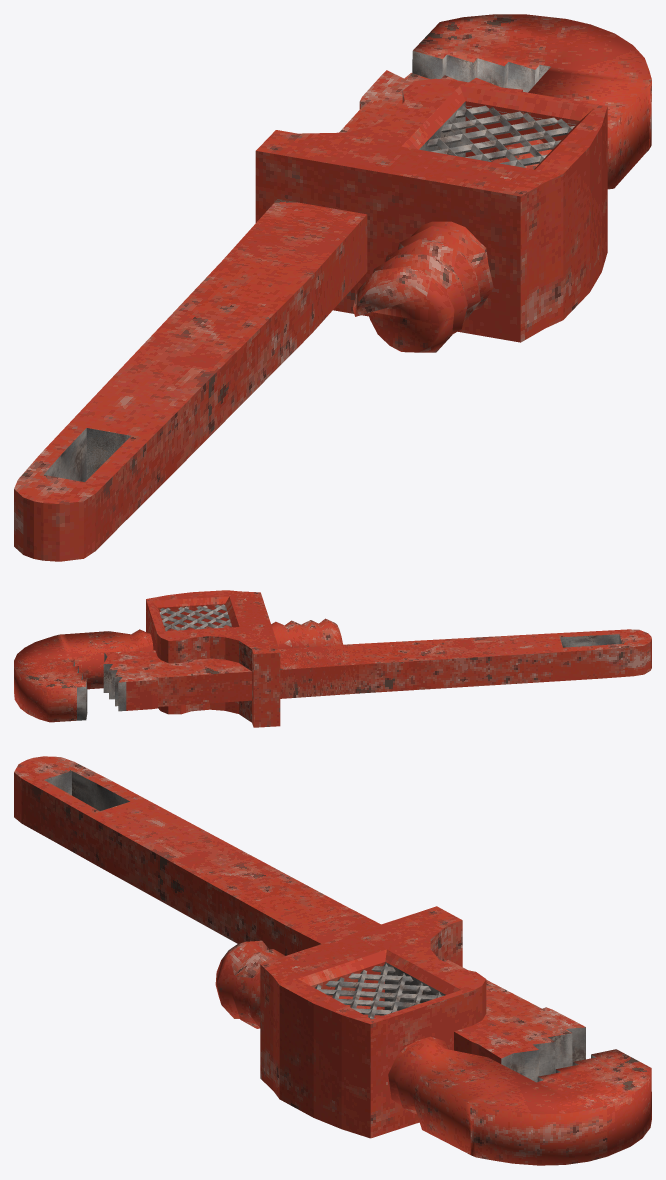
Rendered from Wrench.glb.
3 views of the same model, one above another, from view 1: azimuth 30°, elevation 25°; view 2: azimuth 150°, elevation 25°; view 3: azimuth 270°, elevation 25° (orthographic). The views are drawn at different scales.
Visible parts, largest first — view 1: Plane.003, Circle.002, Plane.007; view 2: Plane.003, Circle.002, Plane.007; view 3: Plane.003, Circle.002, Plane.007.
Boxes of the visible parts, box(x1,y1,x2,y2) form: Plane.003: box(14, 70, 607, 561); Circle.002: box(353, 14, 651, 352); Plane.007: box(420, 105, 575, 169); Plane.003: box(103, 590, 651, 727); Circle.002: box(14, 618, 342, 722); Plane.007: box(159, 604, 231, 631); Plane.003: box(14, 756, 585, 1138); Circle.002: box(215, 940, 651, 1165); Plane.007: box(315, 963, 443, 1019).
Size of the model in its own units: 1.51 by 0.2275 by 1.15.
Materials: 2 (2 with a texture image).
